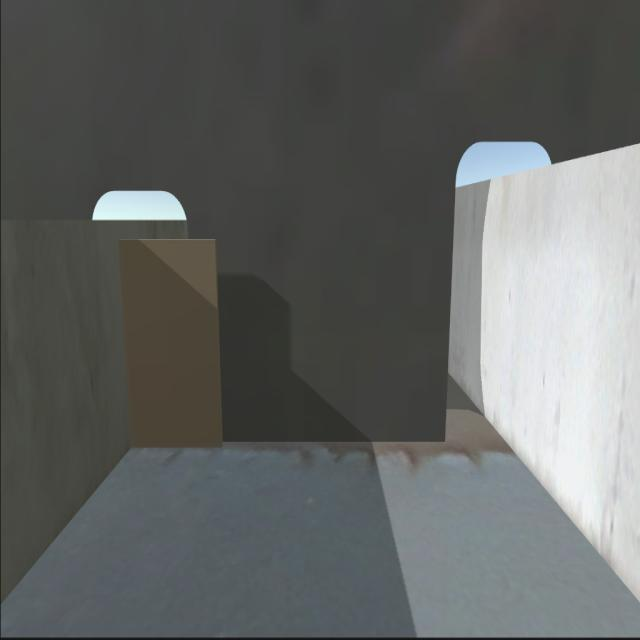fillet_yong_jeop_jang: (129, 422, 447, 454)
longi_yong_jeop_jang: (116, 239, 140, 449)
plate_CP01: (122, 239, 224, 446)
